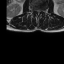CCS_normal: (37, 8, 39, 16)
LFS_severe_stenosis: (41, 8, 43, 13)
LLS_stenosis: (39, 8, 41, 14)
RFS_severe_stenosis: (34, 7, 36, 12)
RLS_stenosis: (35, 7, 37, 14)
